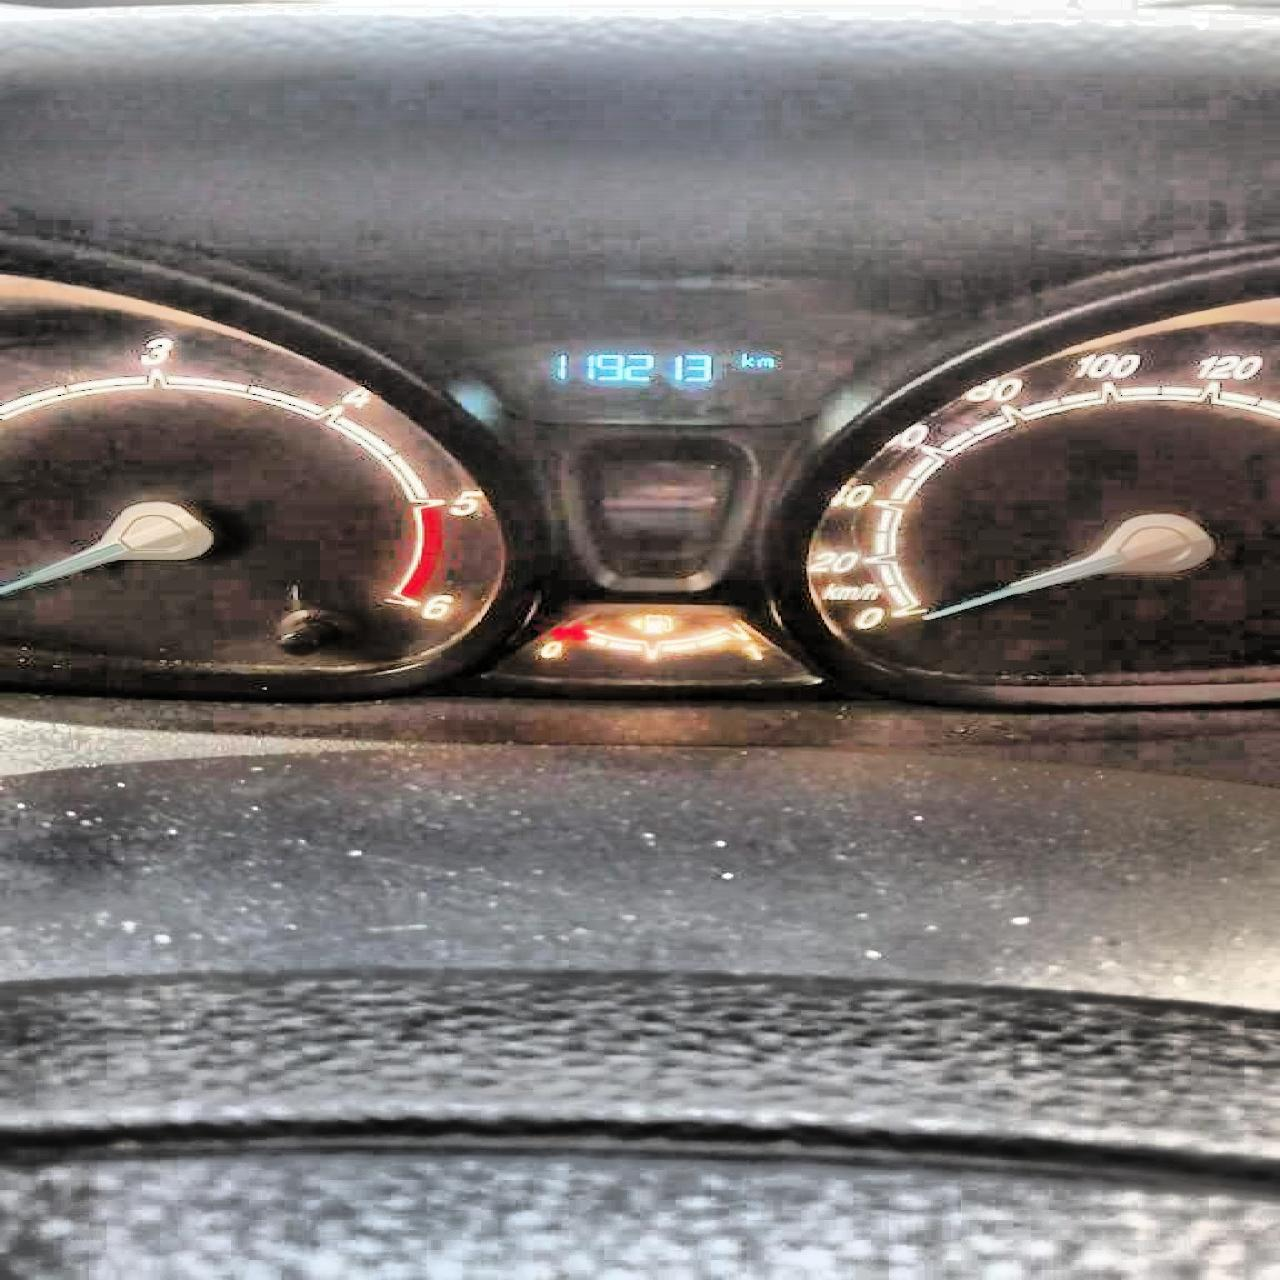1: (549, 350, 571, 380), (662, 354, 682, 380), (576, 353, 593, 380)
2: (622, 353, 654, 380)
3: (685, 354, 712, 381)
9: (593, 353, 622, 380)
X: (737, 352, 754, 368), (756, 356, 774, 368)
odometer: (491, 336, 829, 428)
